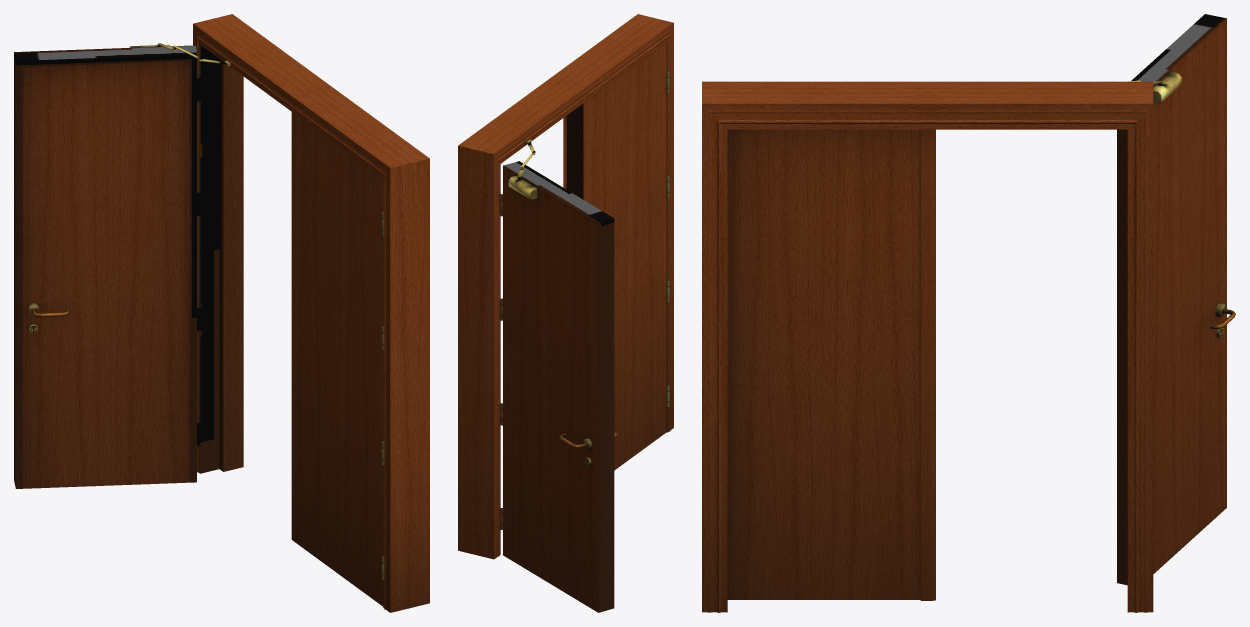
File: double_open_door.DAE
3 views of the same model, side by side, from view 1: azimuth 30°, elevation 25°; view 2: azimuth 150°, elevation 25°; view 3: azimuth 270°, elevation 25° (orthographic). The views are drawn at different scales.
Visible parts, largest first — view 1: double_open_door; view 2: double_open_door; view 3: double_open_door.
Part boxes in pixels (x1=…): double_open_door: x1=14, y1=14, x2=429, y2=612; double_open_door: x1=458, y1=14, x2=673, y2=612; double_open_door: x1=702, y1=14, x2=1235, y2=612.
Bounding box in the file's own units: 44.96 × 93.22 × 98.
2 materials, 2 textured.
